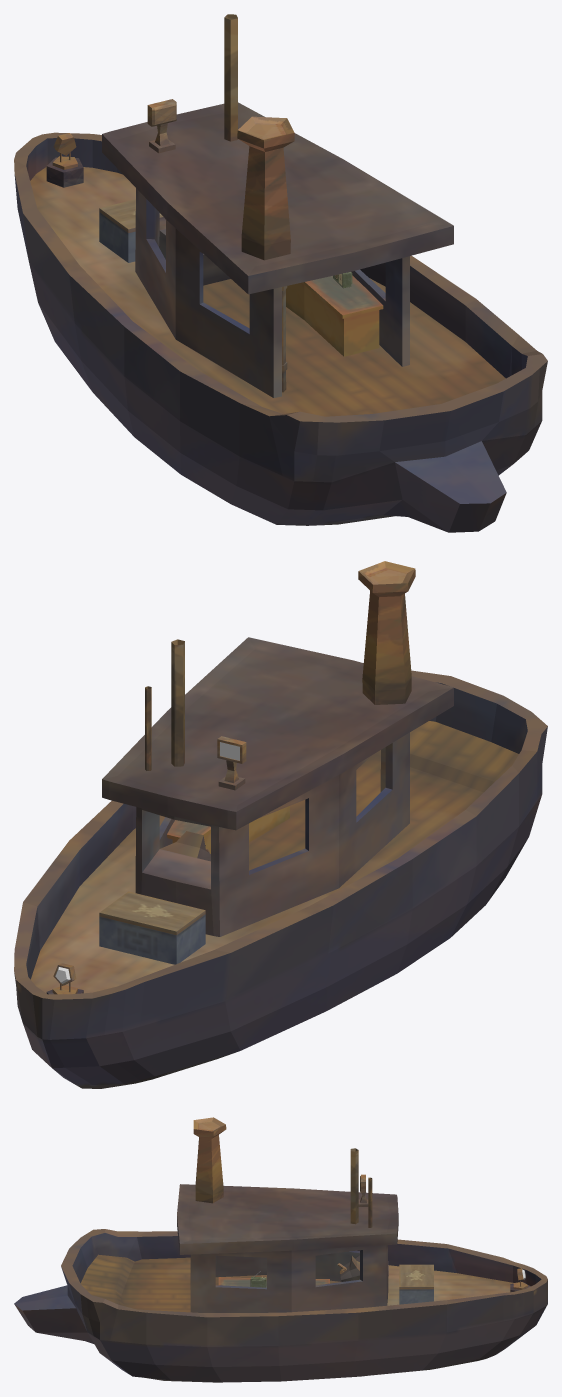
File: Boat (2).fbx
The picture shows the model from 3 angles, top to bottom: view 1: azimuth 30°, elevation 25°; view 2: azimuth 150°, elevation 25°; view 3: azimuth 270°, elevation 25°; orthographic projection. The views are drawn at different scales.
Parts seen in each view (by area): view 1: Boat, Chamine3, Cube.003, Chamine2, Roof_Lamp, Box, Box_lid, Base_Lamp, Front_Lamp; view 2: Boat, Chamine3, Box, Box_lid, Chamine2, Cube.003, Roof_Lamp; view 3: Boat, Chamine3, Box_lid, Chamine2, Box, Cube.003.
Part boxes in pixels (x1=…): Boat: x1=14, y1=102, x2=547, y2=532; Chamine3: x1=237, y1=116, x2=294, y2=260; Cube.003: x1=286, y1=275, x2=383, y2=356; Chamine2: x1=224, y1=14, x2=237, y2=141; Roof_Lamp: x1=147, y1=99, x2=176, y2=153; Box: x1=99, y1=212, x2=135, y2=262; Box_lid: x1=99, y1=199, x2=163, y2=232; Base_Lamp: x1=46, y1=157, x2=83, y2=187; Front_Lamp: x1=52, y1=133, x2=77, y2=169; Boat: x1=14, y1=637, x2=547, y2=1088; Chamine3: x1=358, y1=561, x2=415, y2=704; Box: x1=99, y1=914, x2=205, y2=964; Box_lid: x1=99, y1=891, x2=205, y2=935; Chamine2: x1=171, y1=639, x2=184, y2=766; Cube.003: x1=167, y1=806, x2=289, y2=853; Roof_Lamp: x1=217, y1=736, x2=246, y2=790; Boat: x1=14, y1=1184, x2=547, y2=1382; Chamine3: x1=193, y1=1117, x2=226, y2=1203; Box_lid: x1=399, y1=1264, x2=433, y2=1289; Chamine2: x1=350, y1=1148, x2=358, y2=1224; Box: x1=399, y1=1289, x2=433, y2=1304; Cube.003: x1=218, y1=1277, x2=329, y2=1287.
Bounding box in the file's own units: 2.99 × 3.46 × 7.83.
Materials: 16 (15 with a texture image).
